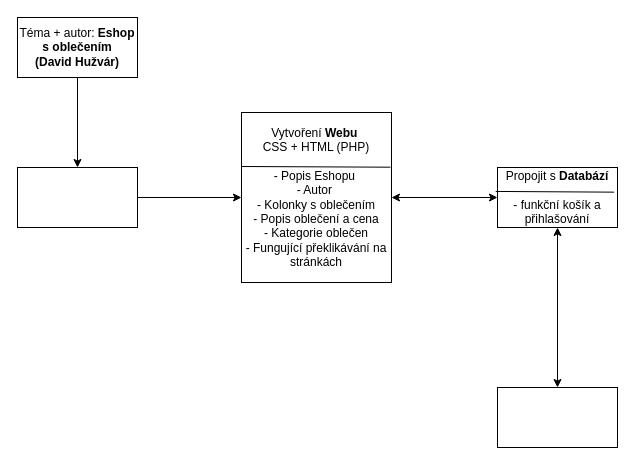
Image size: 635x465. Some labels were removed from this diagram. Each missing label, with the centre of its shape:
"Propojit s Pythnem - Umožňuje funkční košík" goes at (557,417).
"Vytvoření GitHubu" goes at (77,197).
